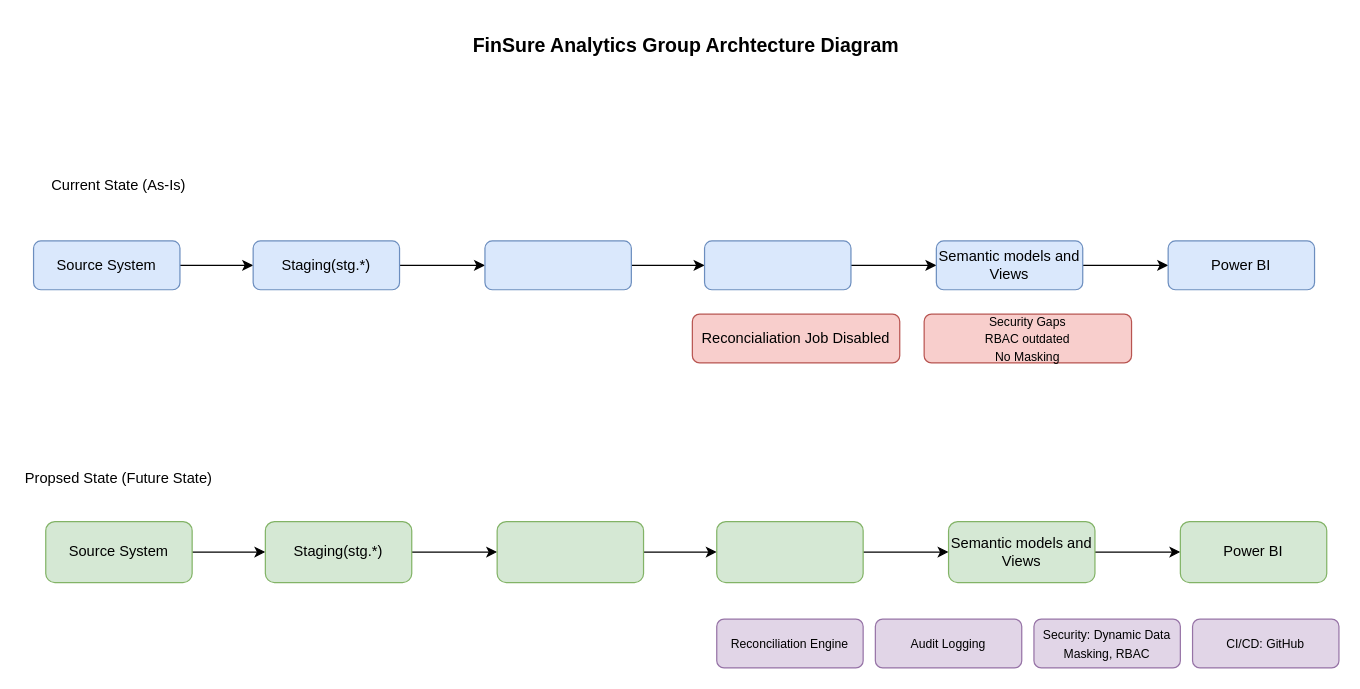
The diagram is 1360 pixels wide and 689 high, and some of its shapes have lost their labels. Each missing label, with the centre of its shape:
Data Warehouse: pixel 777 265
Data Warehouse - Secure RBAC -Dynamic Data Masking: pixel 789 551
ETL (SSIS): pixel 557 265
ETL (SSIS) -Error handling: pixel 570 551
